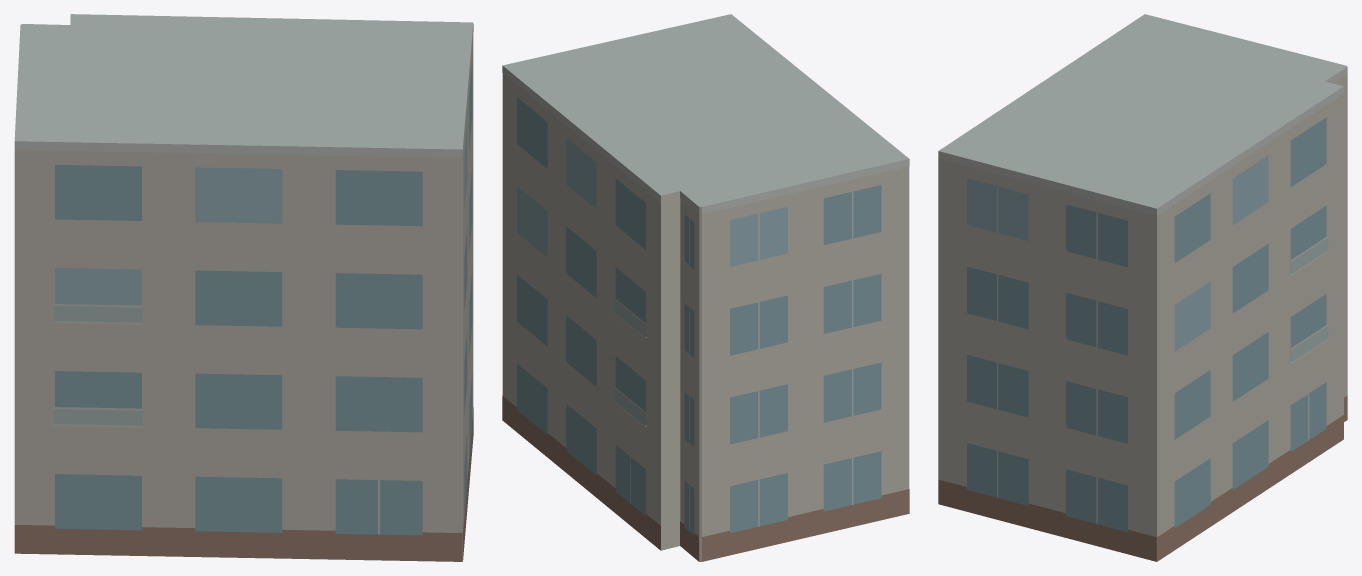
Rendered from survey-upis-32990726.glb.
The picture shows the model from 3 angles, left to right: view 1: azimuth 30°, elevation 25°; view 2: azimuth 150°, elevation 25°; view 3: azimuth 270°, elevation 25°; orthographic projection. The views are drawn at different scales.
Parts seen in each view (by area): view 1: survey-upis-32990726.tmp; view 2: survey-upis-32990726.tmp; view 3: survey-upis-32990726.tmp.
Part boxes in pixels (x1,y1,x2,y2): survey-upis-32990726.tmp: (14, 14, 473, 561); survey-upis-32990726.tmp: (502, 14, 909, 561); survey-upis-32990726.tmp: (938, 14, 1347, 561).
Size of the model in its own units: 13.84 by 11.7 by 12.3.
